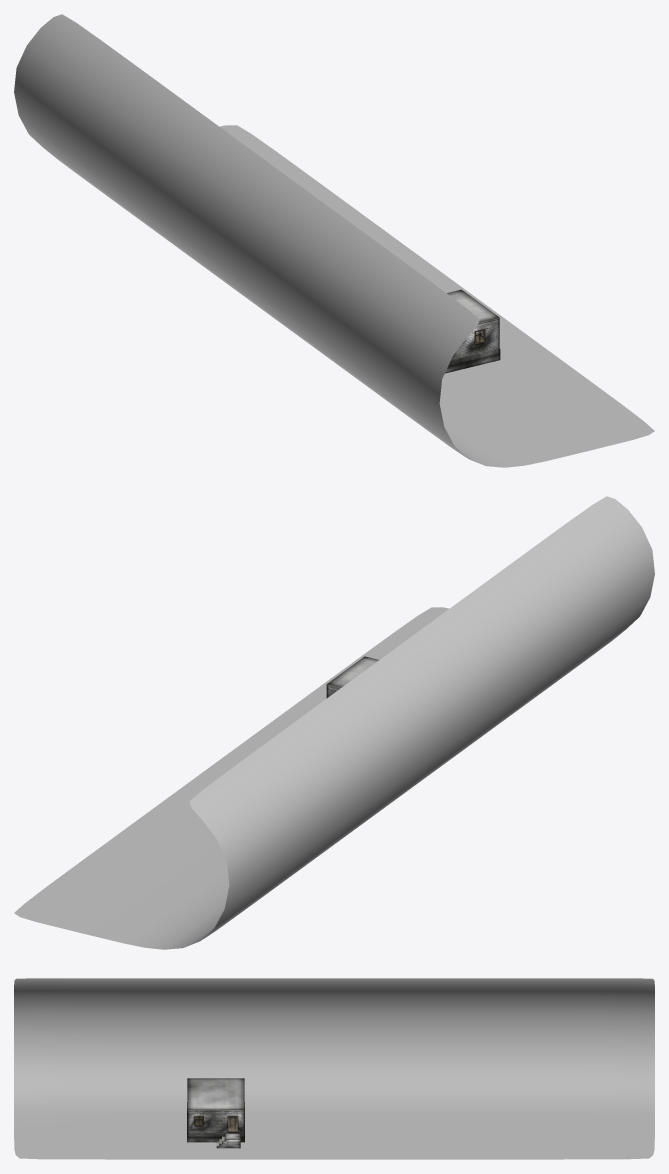
The model's file is HouseRender.fbx.
The picture shows the model from 3 angles, top to bottom: view 1: azimuth 30°, elevation 25°; view 2: azimuth 150°, elevation 25°; view 3: azimuth 270°, elevation 25°; orthographic projection. The views are drawn at different scales.
Parts seen in each view (by area): view 1: Plane, Cube_001; view 2: Plane, Cube_001; view 3: Plane, Cube_001.
Boxes of the visible parts, x1,y1,x2,y2 form: Plane: (14,14,654,467); Cube_001: (445,289,500,373); Plane: (14,496,654,949); Cube_001: (326,656,378,698); Plane: (14,978,654,1159); Cube_001: (187,1078,244,1148).
Size of the model in its own units: 5.68 by 3.8 by 18.78.
